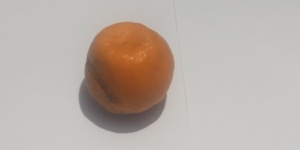BAD: (82, 19, 176, 119)
